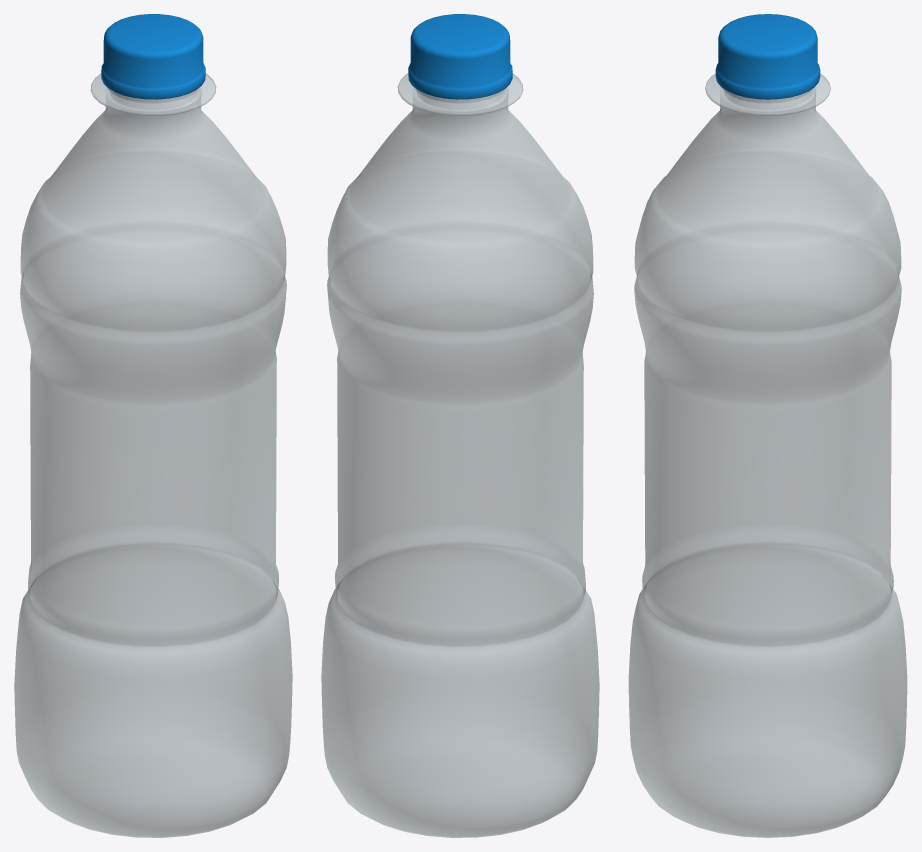
File: scene_small_bottle.gltf
3 renders of one model, left to right at view 1: azimuth 30°, elevation 25°; view 2: azimuth 150°, elevation 25°; view 3: azimuth 270°, elevation 25°, orthographic.
Visible parts, largest first — view 1: SM_Water_bottle_1, SM_Water_bottle_1_cap; view 2: SM_Water_bottle_1, SM_Water_bottle_1_cap; view 3: SM_Water_bottle_1, SM_Water_bottle_1_cap.
Boxes of the visible parts, bbox=[...] form: SM_Water_bottle_1: bbox=[14, 73, 292, 837]; SM_Water_bottle_1_cap: bbox=[101, 14, 205, 99]; SM_Water_bottle_1: bbox=[321, 73, 599, 837]; SM_Water_bottle_1_cap: bbox=[408, 14, 512, 99]; SM_Water_bottle_1: bbox=[628, 73, 907, 837]; SM_Water_bottle_1_cap: bbox=[715, 14, 820, 99].
Size of the model in its own units: 0.1038 by 0.3158 by 0.1038.
Materials: 1 (1 with a texture image).
